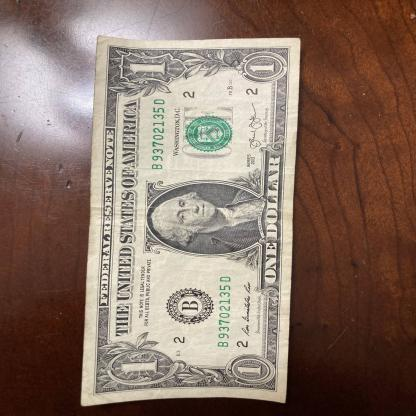one-front: (79, 38, 301, 408)
